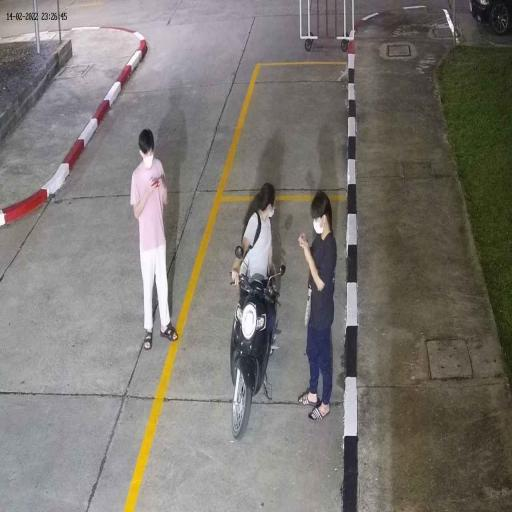motorcycle: (228, 272, 282, 443)
